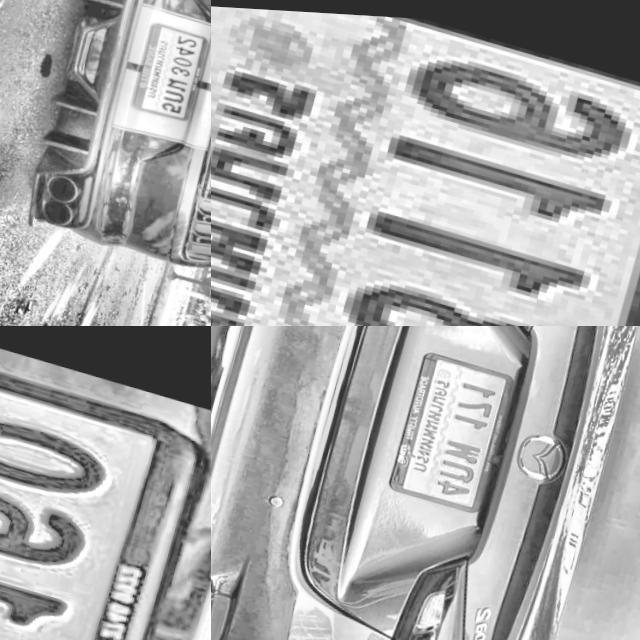license-plate: (211, 0, 640, 326), (0, 326, 211, 640), (387, 343, 522, 514), (127, 15, 211, 125)
